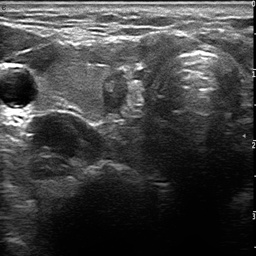mass: (102, 71, 127, 114)
